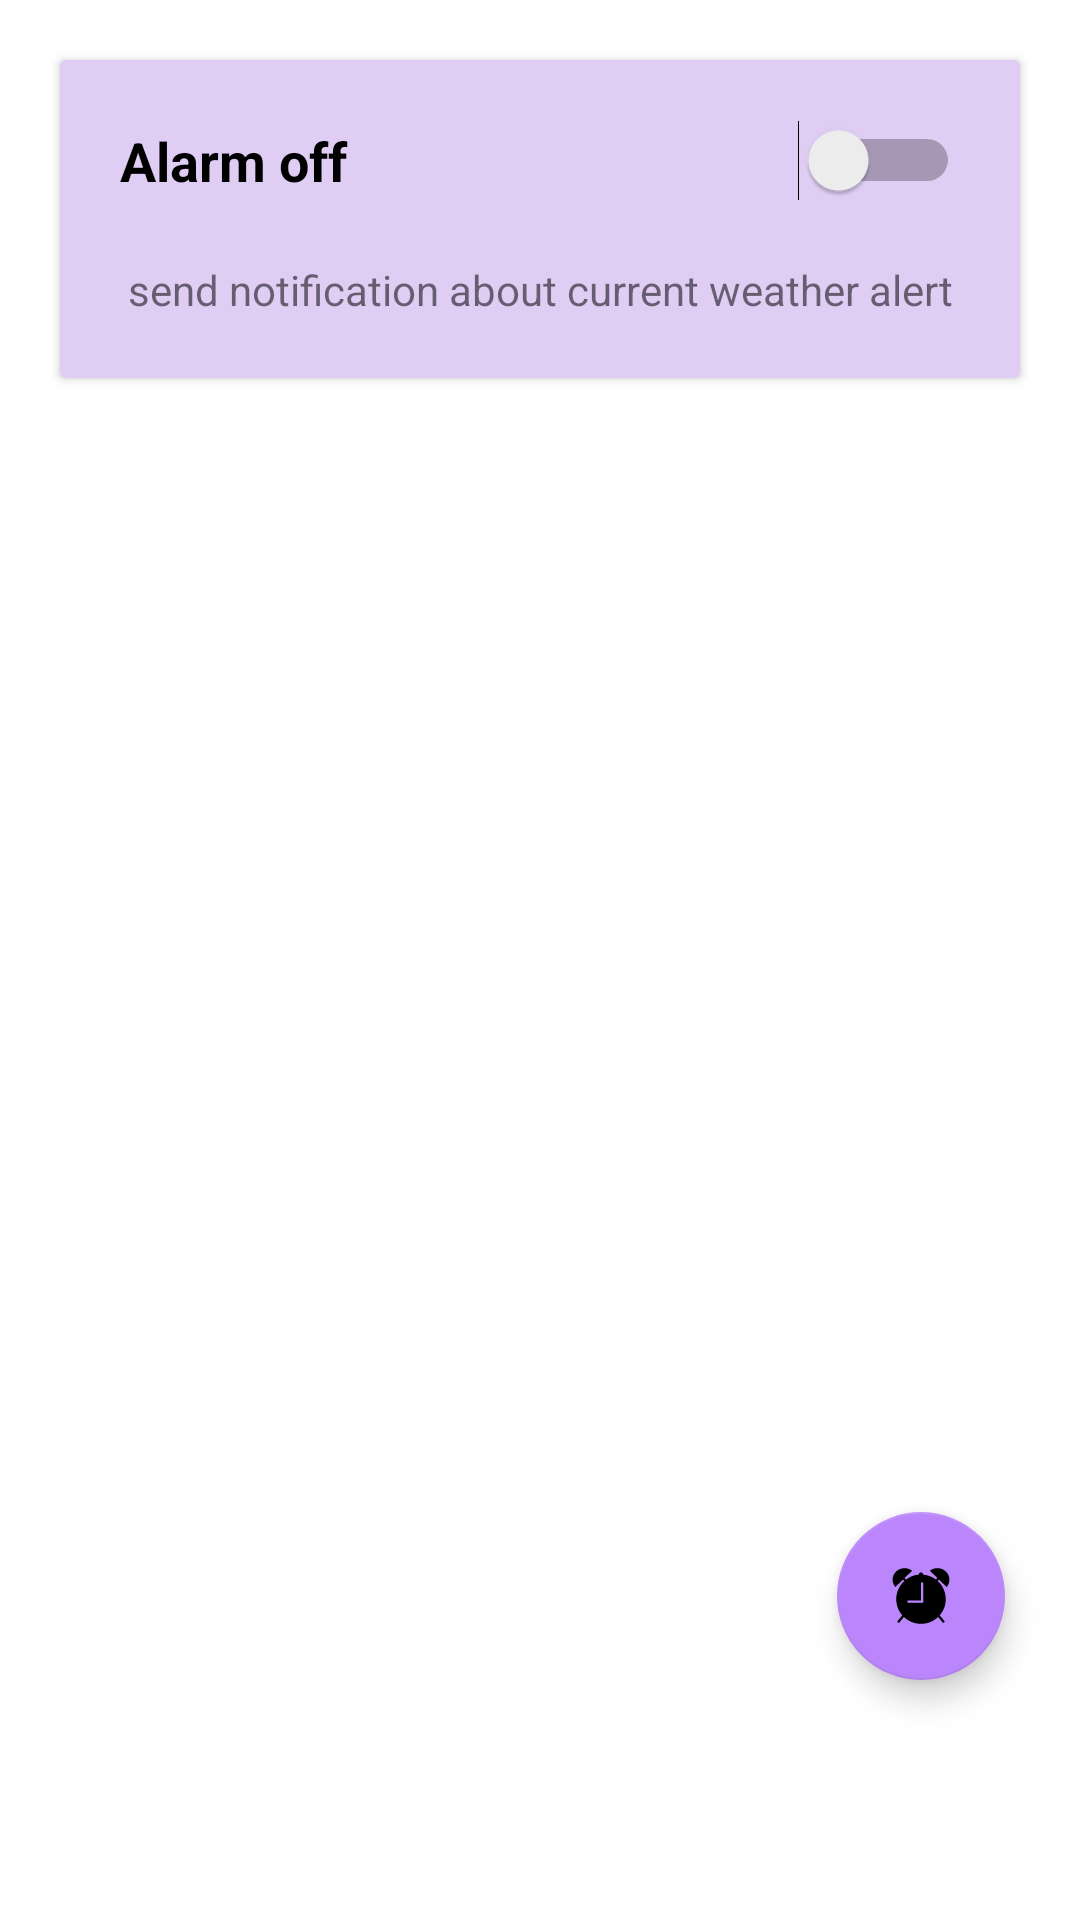

Named icons in this screenshot (1080x1920) and their bounding boxes, {"left": x1, "top": y1, "right": x2, "bottom": y2}:
iconfinder alarm: {"left": 837, "top": 1512, "right": 1005, "bottom": 1680}
